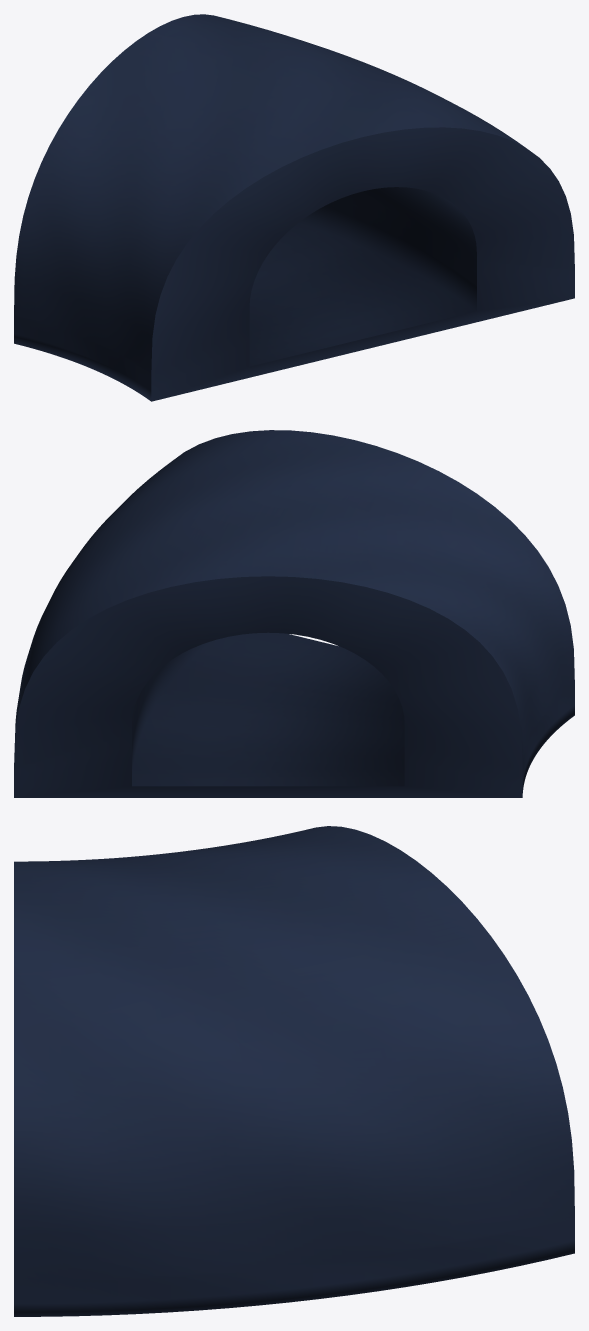
Rendered from curve_left_30_terrain.glb.
The picture shows the model from 3 angles, top to bottom: view 1: azimuth 30°, elevation 25°; view 2: azimuth 150°, elevation 25°; view 3: azimuth 270°, elevation 25°; orthographic projection. The views are drawn at different scales.
Parts seen in each view (by area): view 1: TerrainRoof.006; view 2: TerrainRoof.006; view 3: TerrainRoof.006.
Boxes of the visible parts, x1,y1,x2,y2 form: TerrainRoof.006: (14, 14, 574, 401); TerrainRoof.006: (14, 430, 574, 797); TerrainRoof.006: (14, 826, 574, 1316).
Size of the model in its own units: 31.32 by 13.65 by 25.1.
